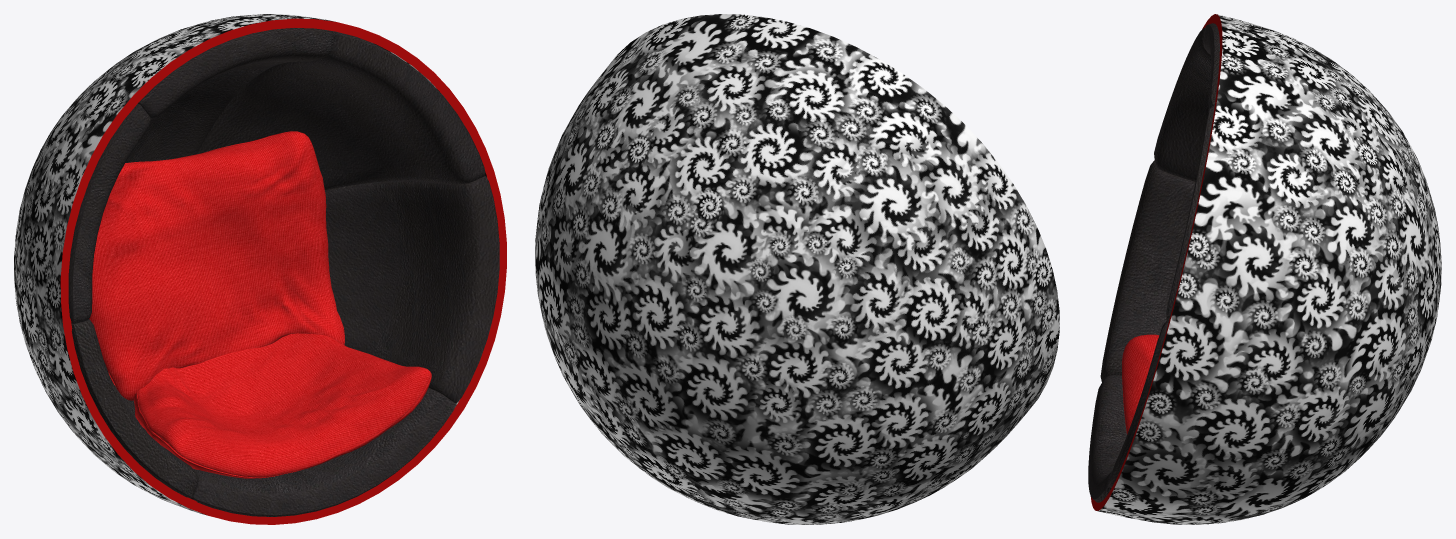
The model's file is Chair.fbx.
3 views of the same model, side by side, from view 1: azimuth 30°, elevation 25°; view 2: azimuth 150°, elevation 25°; view 3: azimuth 270°, elevation 25° (orthographic). The views are drawn at different scales.
Parts seen in each view (by area): view 1: ball_chair(blender); view 2: ball_chair(blender); view 3: ball_chair(blender).
Boxes of the visible parts, x1=… form: ball_chair(blender): x1=14, y1=14, x2=506, y2=524; ball_chair(blender): x1=535, y1=14, x2=1059, y2=524; ball_chair(blender): x1=1088, y1=14, x2=1441, y2=524.
Bounding box in the file's own units: 532 × 532 × 368.
Materials: 4 (4 with a texture image).
